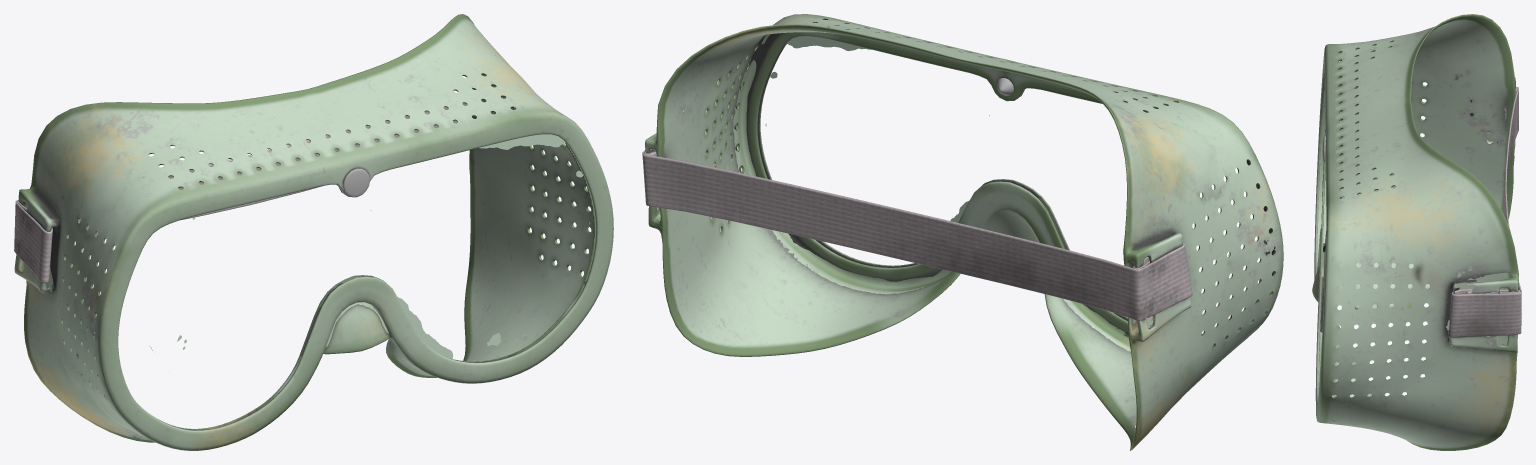
File: Glasses.fbx
3 views of the same model, side by side, from view 1: azimuth 30°, elevation 25°; view 2: azimuth 150°, elevation 25°; view 3: azimuth 270°, elevation 25° (orthographic). The views are drawn at different scales.
Parts seen in each view (by area): view 1: Glasses_vent; view 2: Glasses_vent; view 3: Glasses_vent.
Boxes of the visible parts, bbox=[...] form: Glasses_vent: bbox=[14, 14, 613, 450]; Glasses_vent: bbox=[642, 14, 1283, 450]; Glasses_vent: bbox=[1312, 14, 1521, 450].
Bounding box in the file's own units: 1505 × 916 × 601.
1 material, 1 textured.
